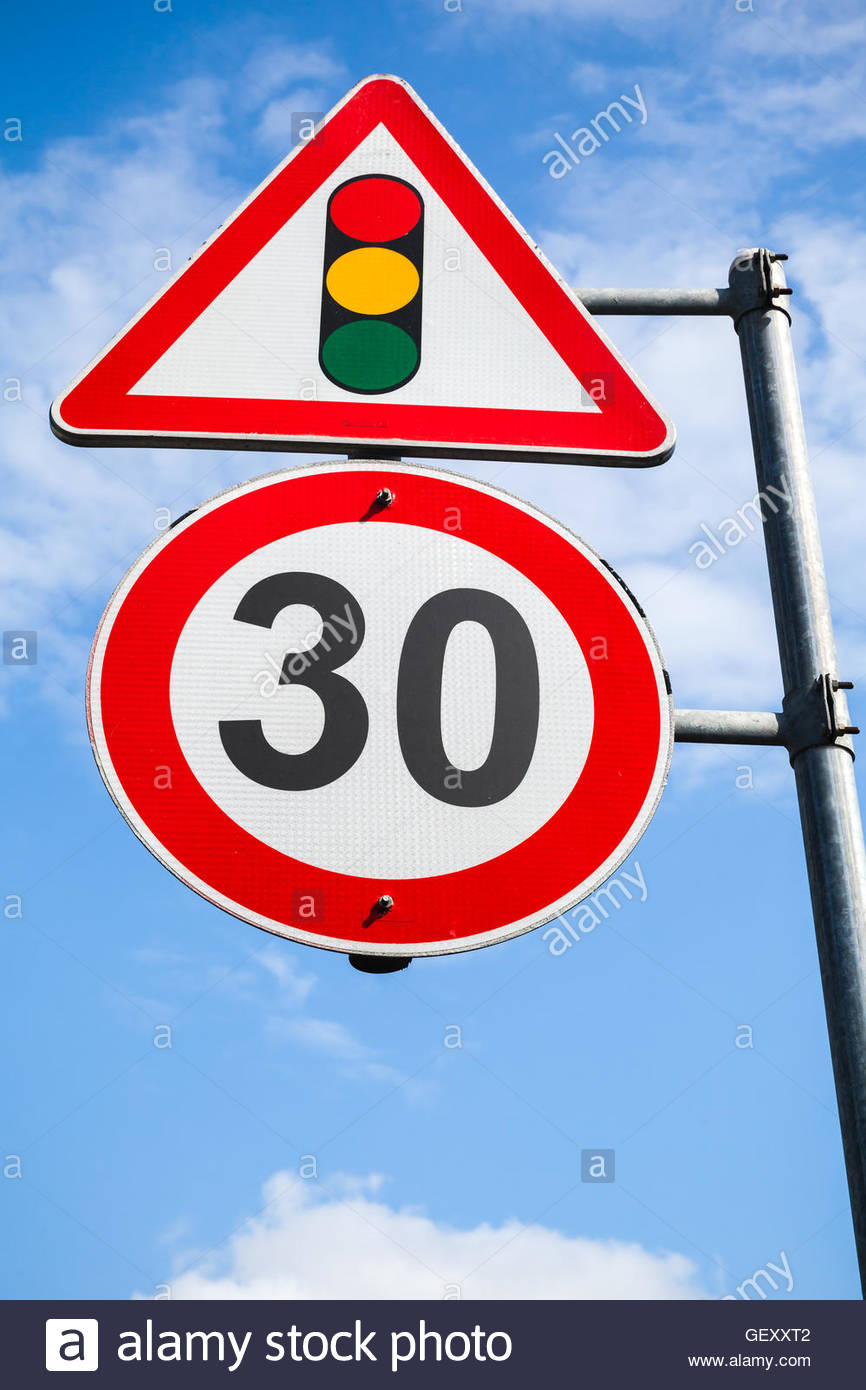Speed_limit_30km: (88, 471, 670, 968)
